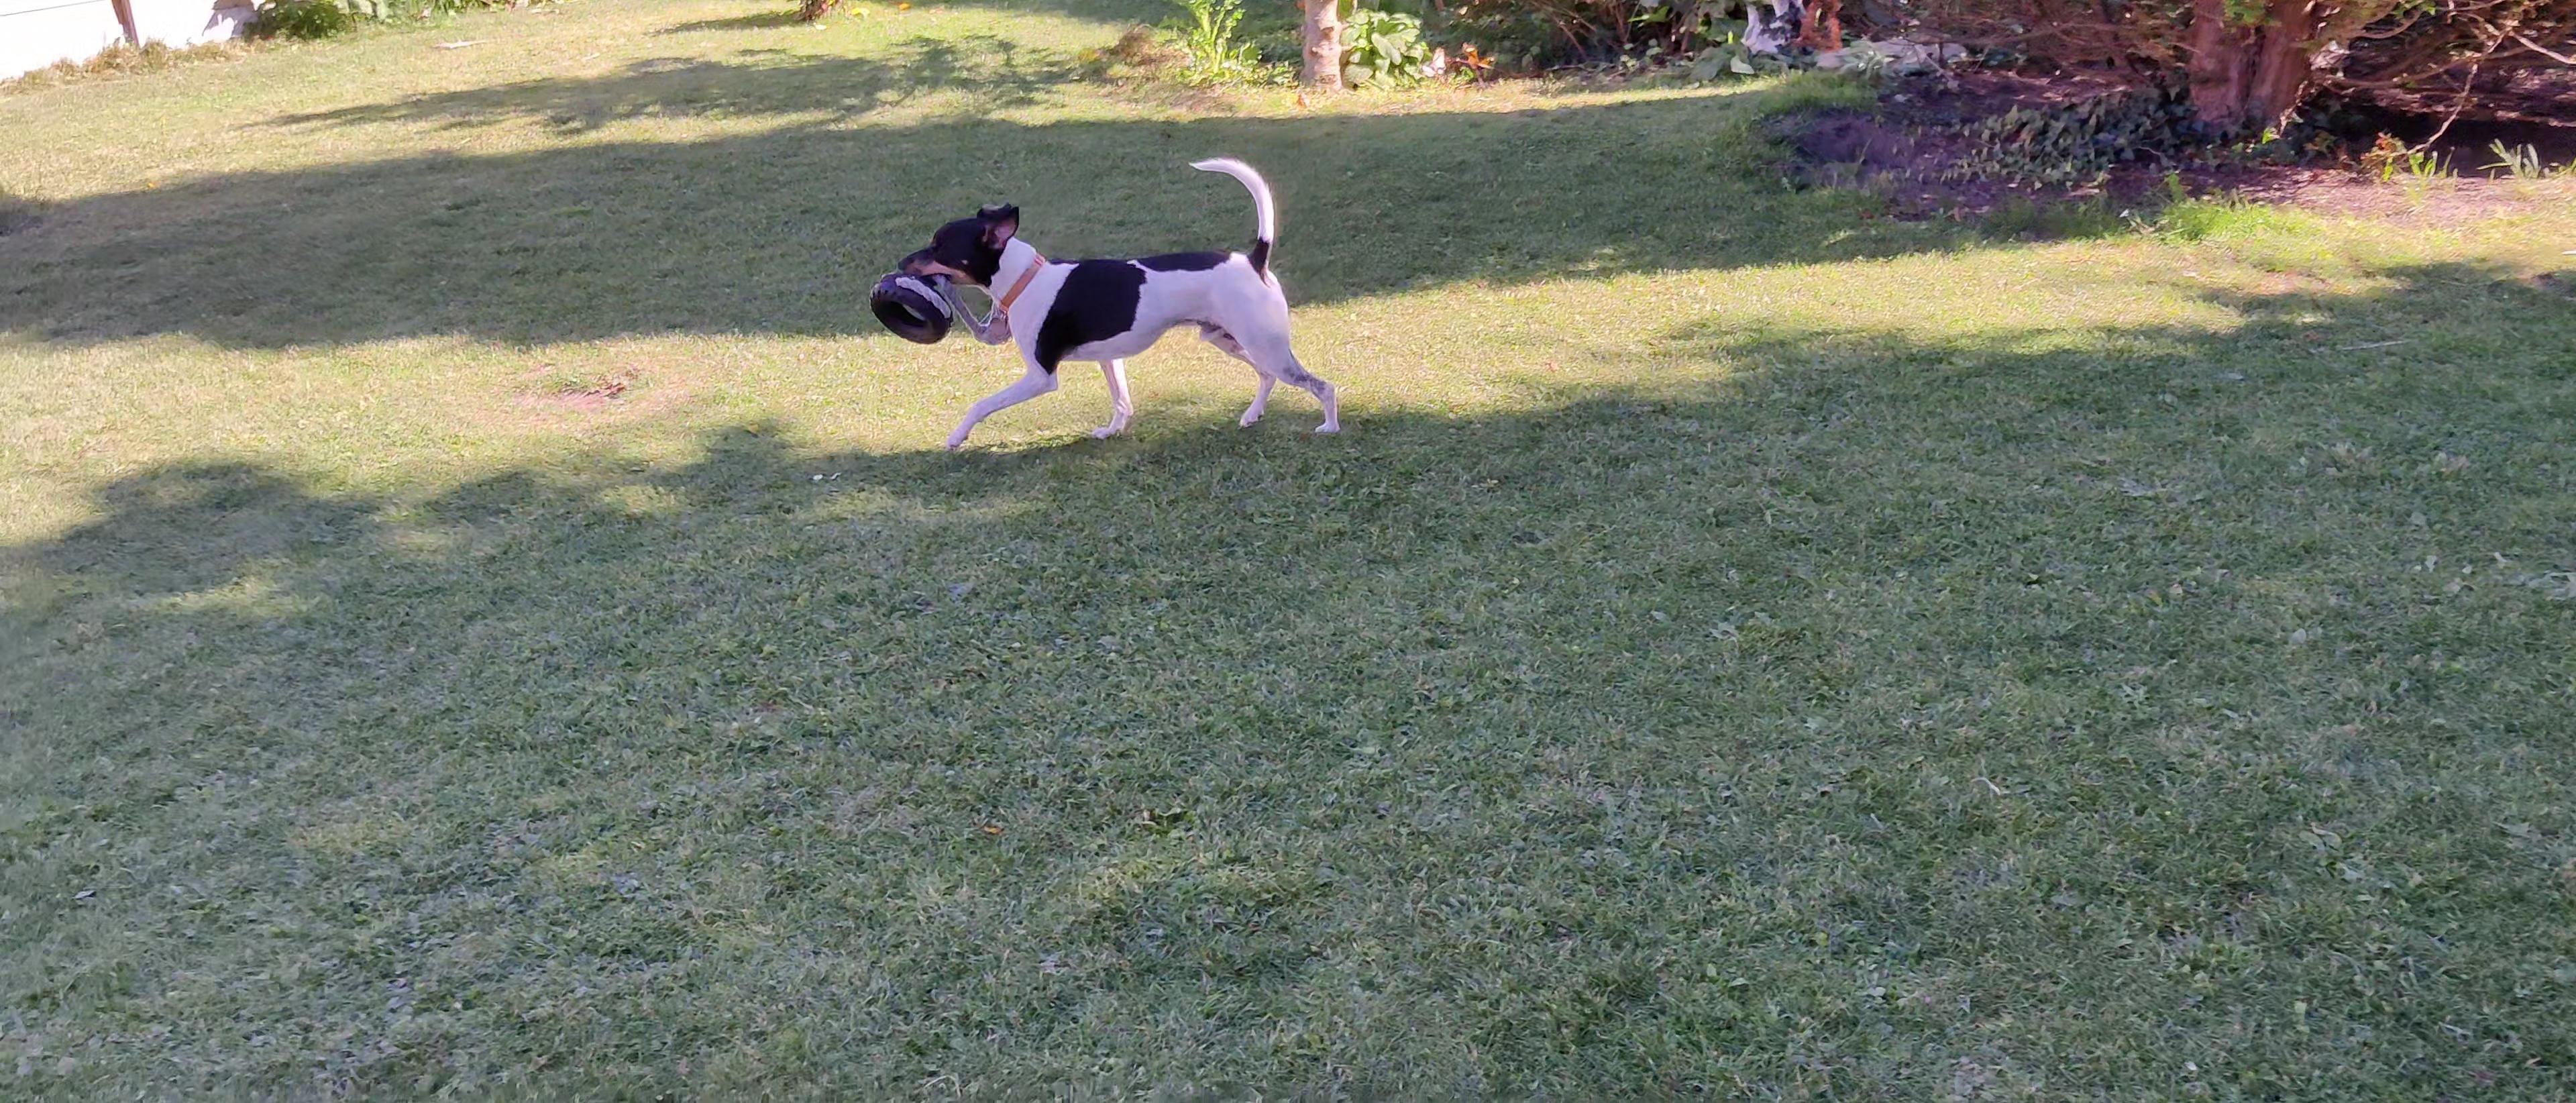Dog: (876, 145, 1362, 452)
